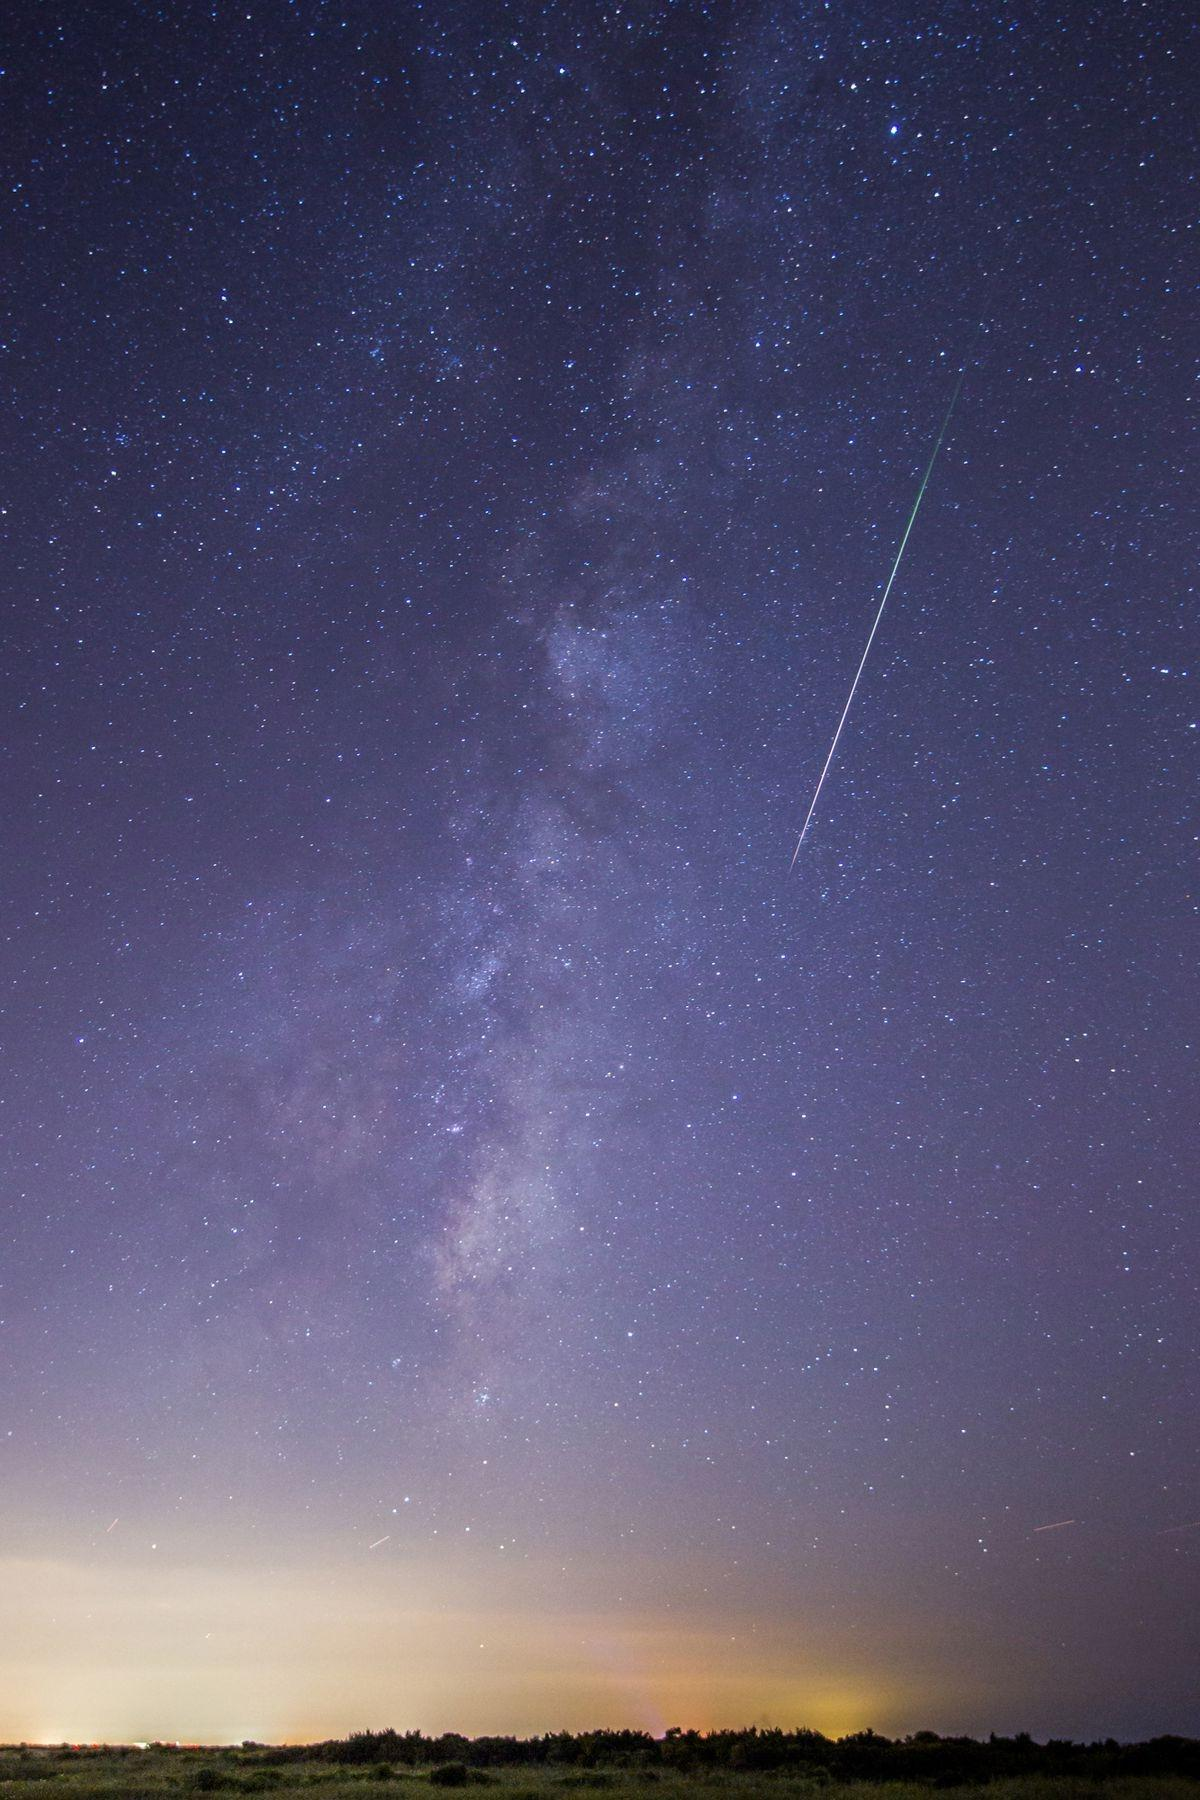meteorite: (771, 333, 998, 879), (1023, 1508, 1090, 1542)
